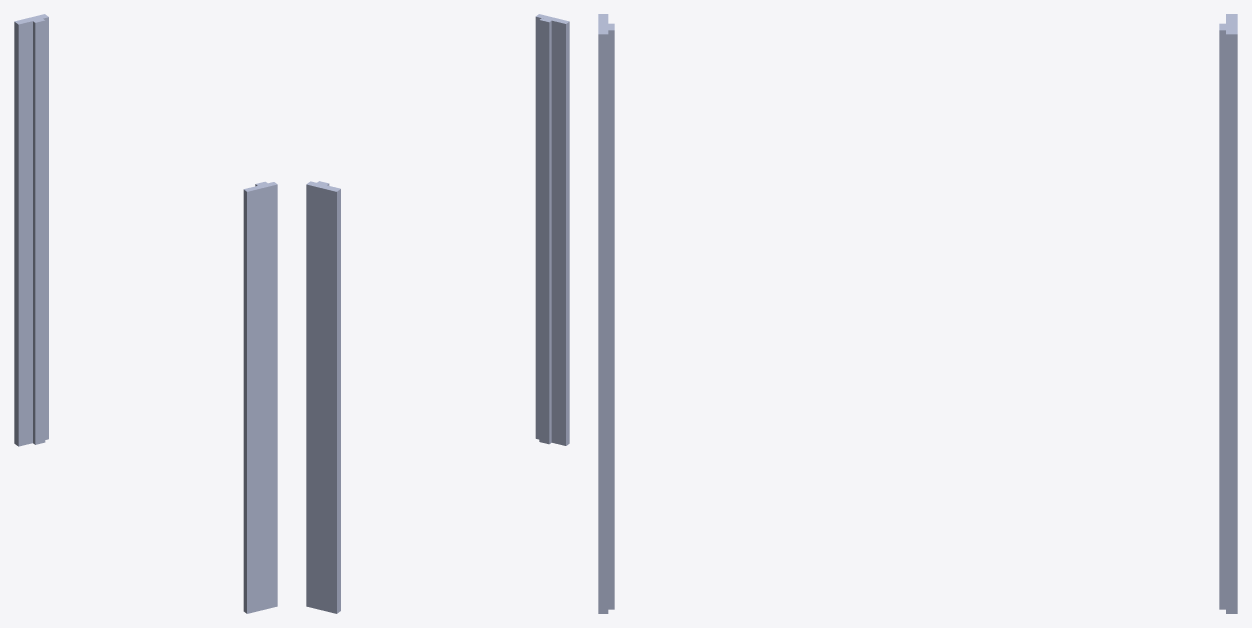
Rendered from WallFrame_Sides.fbx.
The picture shows the model from 3 angles, left to right: view 1: azimuth 30°, elevation 25°; view 2: azimuth 150°, elevation 25°; view 3: azimuth 270°, elevation 25°; orthographic projection. The views are drawn at different scales.
Parts seen in each view (by area): view 1: WallWithSkirt.004; view 2: WallWithSkirt.004; view 3: WallWithSkirt.004.
Boxes of the visible parts, x1,y1,x2,y2 form: WallWithSkirt.004: [14, 14, 277, 613]; WallWithSkirt.004: [306, 14, 569, 613]; WallWithSkirt.004: [598, 14, 1237, 613].
Size of the model in its own units: 15.16 by 200 by 200.
